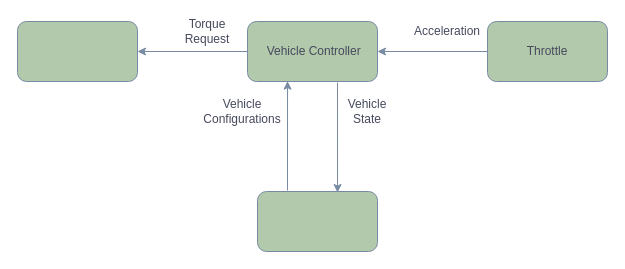
The diagram is 625 pixels wide and 269 high, and some of its shapes have lost their labels. Here are the shapes that lost their labels. From the top down, the box of each, then its label:
(16, 20, 138, 82): Driver (Inverter)
(256, 190, 378, 252): Steering Wheel
